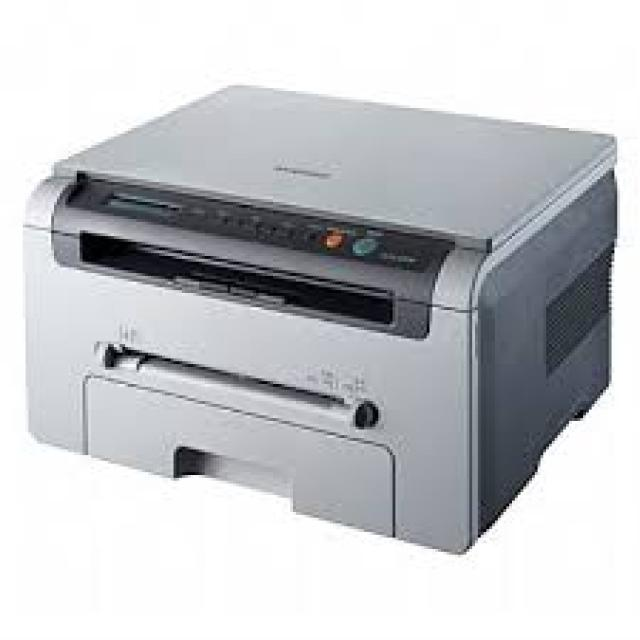printer: (21, 81, 622, 557)
